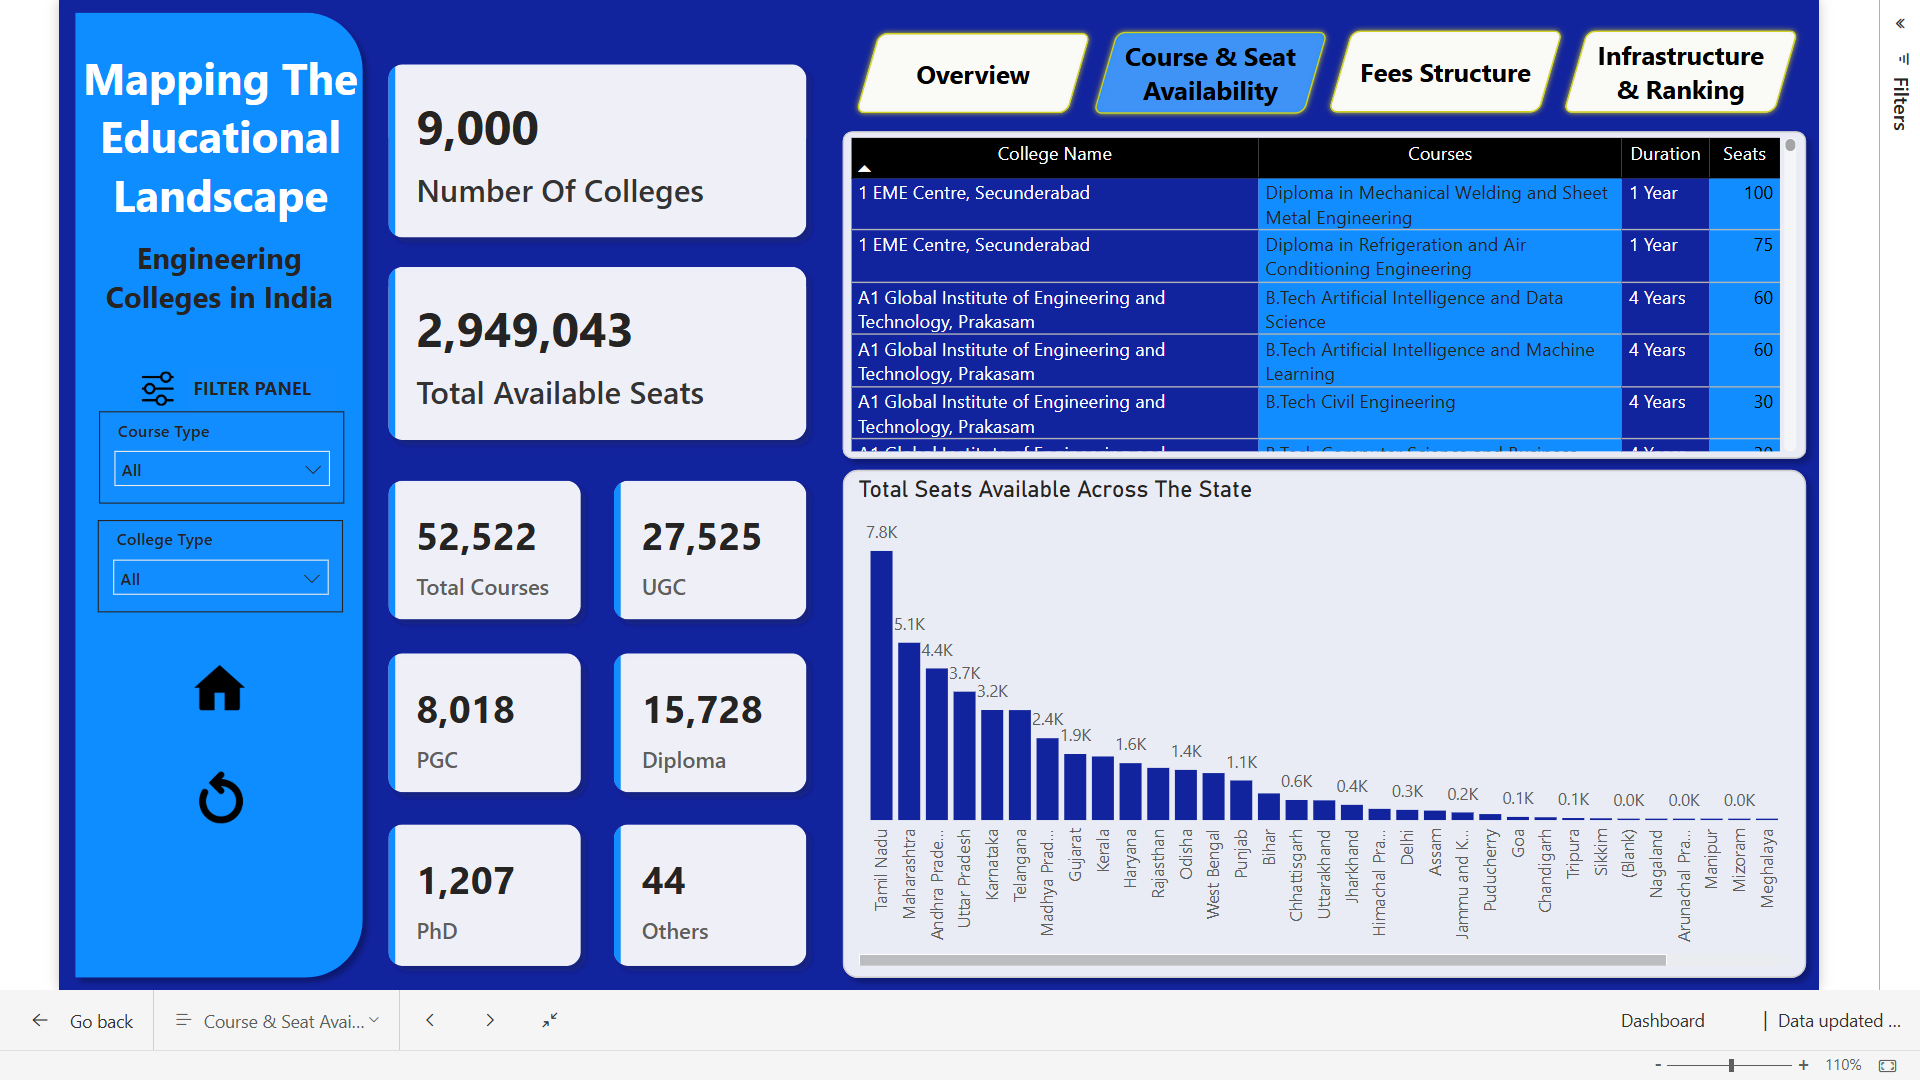

The dashboard page shown, as its layout file describes it:
{"tool":"powerbi","page":{"name":"Course & Seat Availability","canvas":[1280,720],"ordinal":1},"visuals":[{"type":"shape","box":[2.9,0,227.1,720],"z":0},{"type":"textbox","box":[4.3,30,225.7,147.1],"z":1000},{"type":"textbox","box":[24.3,167.1,184.3,82.9],"z":2000},{"type":"cardVisual","fields":{"Data":["College Detail.No of College"]},"box":[222.9,30,338.6,160],"z":3000},{"type":"slicer","fields":{"Values":["College Detail.College Type"]},"box":[28.6,378.6,178.6,67.1],"z":4000},{"type":"image","box":[55.7,265.7,32.9,34.3],"z":5000},{"type":"textbox","box":[92.9,268.6,108.6,31.4],"z":6000},{"type":"image","box":[90,471.2,53.8,58.8],"z":7000},{"type":"image","box":[95,556.2,45,47.5],"z":8000},{"type":"cardVisual","fields":{"Data":["College Detail.Total No Of Courses","College Detail.Under Graduate","College Detail.Post Graduate","College Detail.Diploma"]},"box":[222.9,332.9,338.6,260],"z":9000},{"type":"shape","box":[561.2,332.5,718.8,387.5],"z":10000},{"type":"shape","box":[561.2,86.2,718.8,256.2],"z":11000},{"type":"tableEx","fields":{"Values":["Course Detail.College Name","Course Detail.Courses","Course Detail.Duration","Course Detail.Seats"]},"box":[570,95.6,698.9,237.8],"z":12000},{"type":"slicer","fields":{"Values":["Course Detail.Course Type"]},"box":[29,299.2,178.6,67.6],"z":13000},{"type":"actionButton","box":[570,18.8,231.2,67.5],"z":14000},{"type":"actionButton","box":[806.2,17.5,231.2,68.8],"z":15000},{"type":"actionButton","box":[1037.5,17.5,231.2,68.8],"z":16000},{"type":"cardVisual","fields":{"Data":["College Detail.PhD","College Detail.Other Courses"]},"box":[222.9,582.9,338.6,137.1],"z":17000},{"type":"cardVisual","fields":{"Data":["College Detail.Total Seats"]},"box":[222.9,177.1,338.6,160],"z":18000},{"type":"clusteredColumnChart","title":"Total Seats Available Across The State","fields":{"Category":["College Detail.State"],"Y":["CountNonNull(Course Detail.Seats)"]},"box":[576.4,345,687.1,362.1],"z":19000}]}

Visuals, with their boxes on the page's 1280x720 design canvas (x1, y1, x2, y2). These are canvas units, not pixel positions in the 1920x1080 screenshot, which may show the page scaled, cropped or inside an application window:
shape: Rect(3, 0, 230, 720)
textbox: Rect(4, 30, 230, 177)
textbox: Rect(24, 167, 209, 250)
cardVisual - College Detail.No of College: Rect(223, 30, 562, 190)
slicer - College Detail.College Type: Rect(29, 379, 207, 446)
image: Rect(56, 266, 89, 300)
textbox: Rect(93, 269, 202, 300)
image: Rect(90, 471, 144, 530)
image: Rect(95, 556, 140, 604)
cardVisual - College Detail.Total No Of Courses x College Detail.Under Graduate: Rect(223, 333, 562, 593)
shape: Rect(561, 332, 1280, 720)
shape: Rect(561, 86, 1280, 342)
tableEx - Course Detail.College Name x Course Detail.Courses: Rect(570, 96, 1269, 333)
slicer - Course Detail.Course Type: Rect(29, 299, 208, 367)
actionButton: Rect(570, 19, 801, 86)
actionButton: Rect(806, 18, 1037, 86)
actionButton: Rect(1038, 18, 1269, 86)
cardVisual - College Detail.PhD x College Detail.Other Courses: Rect(223, 583, 562, 720)
cardVisual - College Detail.Total Seats: Rect(223, 177, 562, 337)
"Total Seats Available Across The State" clusteredColumnChart: Rect(576, 345, 1264, 707)
